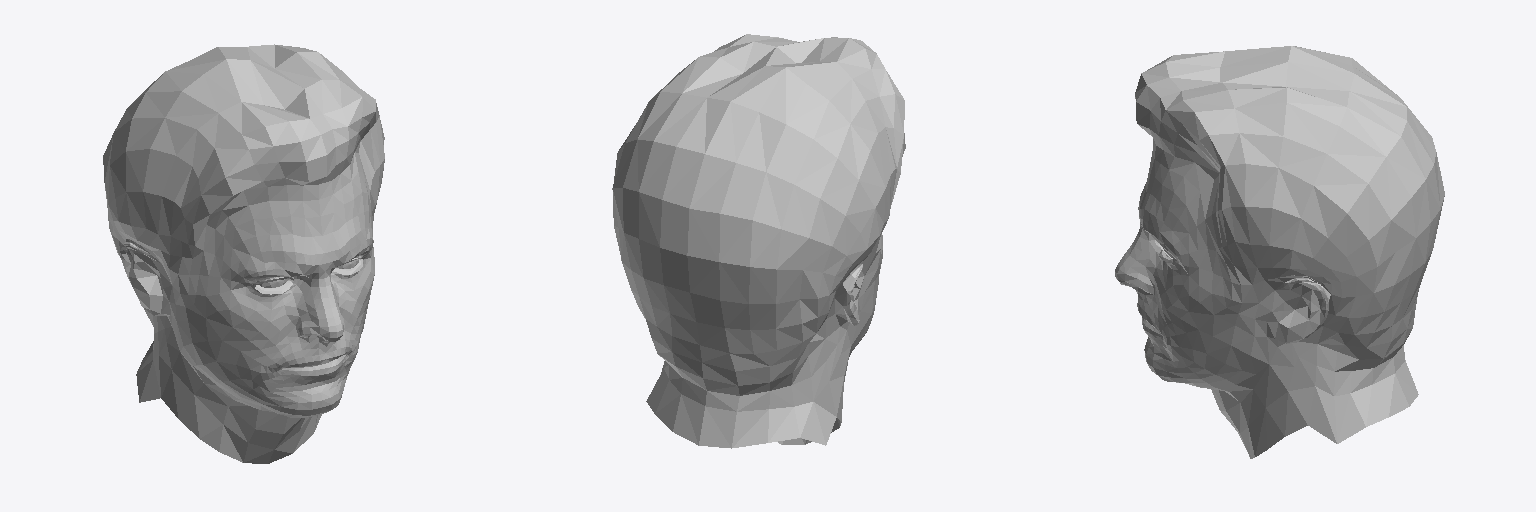
Rendered from headfinalmodel.obj.
3 renders of one model, left to right at view 1: azimuth 30°, elevation 25°; view 2: azimuth 150°, elevation 25°; view 3: azimuth 270°, elevation 25°, orthographic.
Parts seen in each view (by area): view 1: theillusiveman_illHead; view 2: theillusiveman_illHead; view 3: theillusiveman_illHead.
Boxes of the visible parts, box(x1,y1,x2,y2) form: theillusiveman_illHead: box(103, 44, 384, 463); theillusiveman_illHead: box(612, 34, 905, 448); theillusiveman_illHead: box(1115, 46, 1444, 458).
Size of the model in its own units: 7.3 by 11.67 by 8.8.